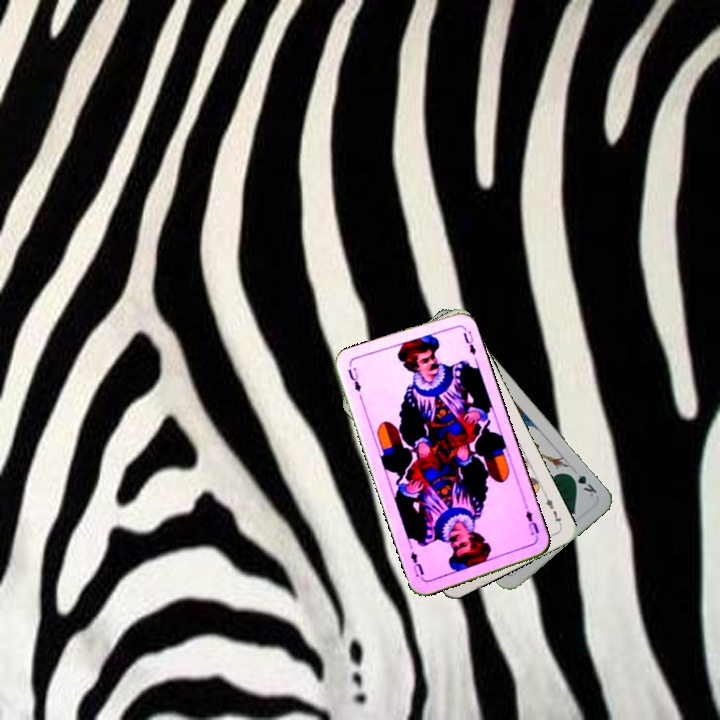E7: (541, 490, 565, 528)
EU: (521, 502, 542, 541), (344, 363, 364, 395)
GK: (565, 469, 600, 500)
